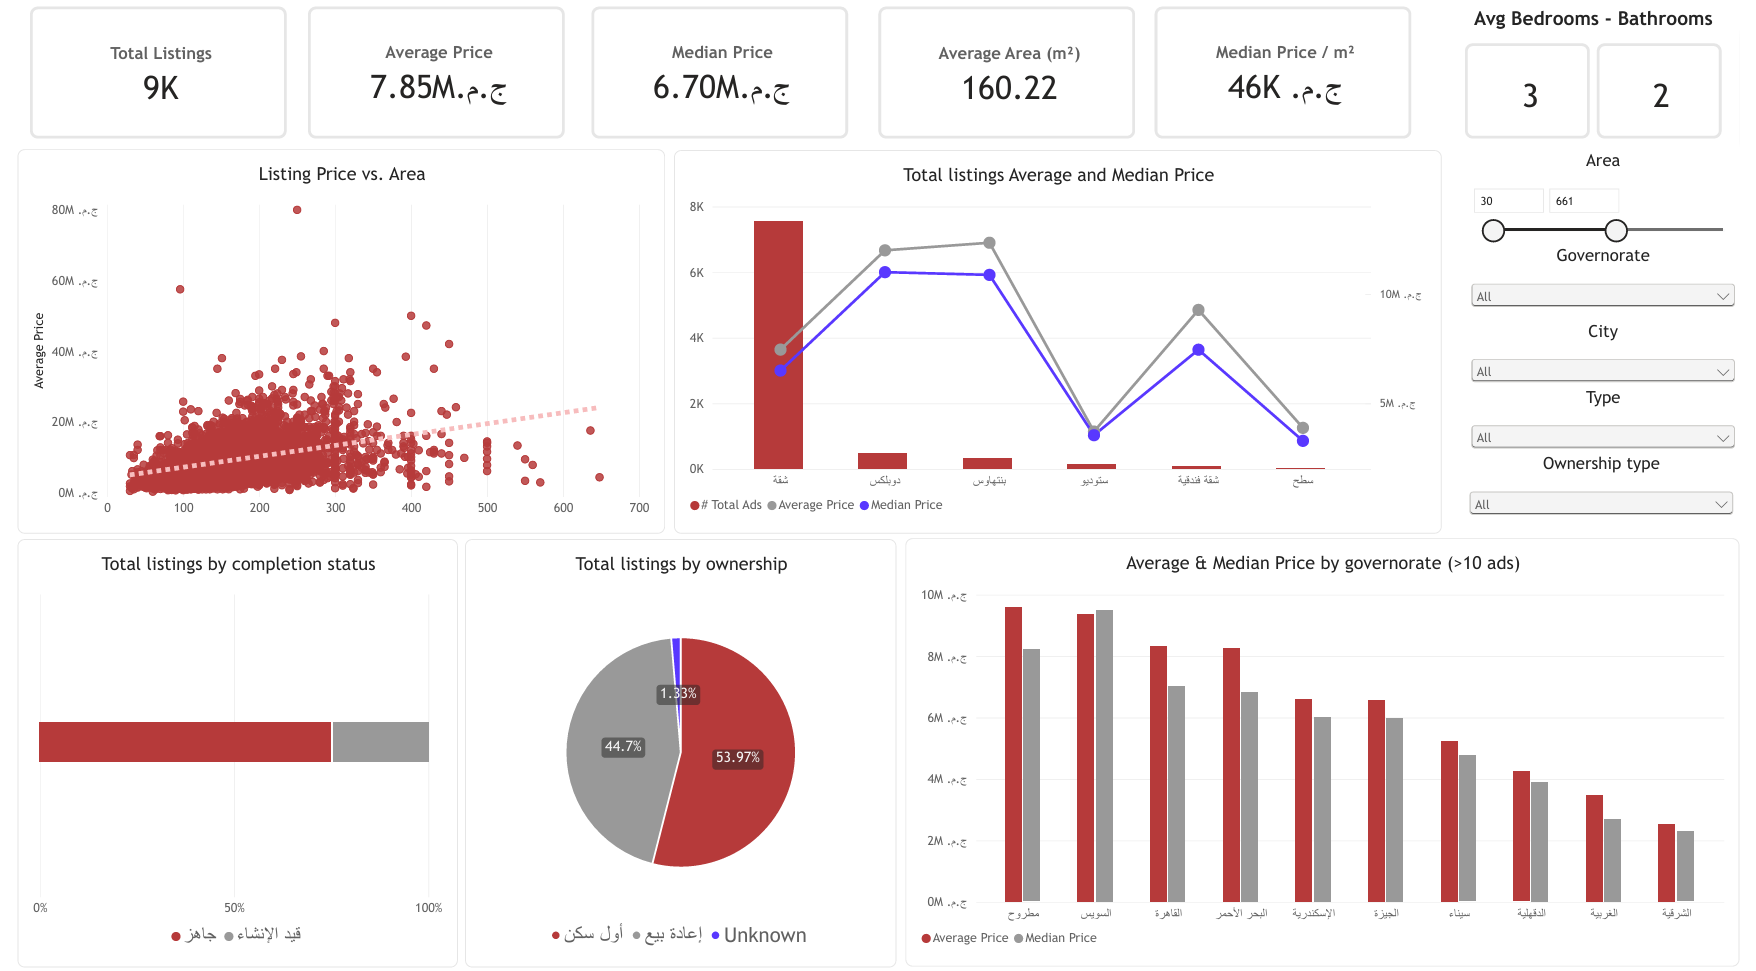

The dashboard page shown, as its layout file describes it:
{"tool":"powerbi","page":{"name":"Overview","canvas":[1920,1080],"ordinal":0},"visuals":[{"type":"cardVisual","fields":{"Data":["_Calculations.# Total Ads"]},"box":[14,8,286,147],"z":0},{"type":"cardVisual","fields":{"Data":["_Calculations.Average Price"]},"box":[324,8,286,147],"z":1000},{"type":"cardVisual","fields":{"Data":["_Calculations.Median Price"]},"box":[640,8,286,147],"z":2000},{"type":"cardVisual","title":"Avg Bedrooms - Bathrooms","fields":{"Data":["_Calculations.Average No. of Bedrooms","_Calculations.Average No. of Bathrooms"]},"box":[1614,8,286,147],"z":3000},{"type":"cardVisual","fields":{"Data":["_Calculations.Median Price per meter"]},"box":[1268,8,286,147],"z":4000},{"type":"cardVisual","fields":{"Data":["_Calculations.Average Area"]},"box":[960,8,286,147],"z":5000},{"type":"clusteredColumnChart","title":"Average & Median Price by governorate (>10 ads)","fields":{"Category":["Dim_address.governorate"],"Y":["_Calculations.Average Price","_Calculations.Median Price"]},"box":[990,601.4,930,477.8],"z":6000},{"type":"hundredPercentStackedBarChart","title":"Total listings by completion status","fields":{"Series":["Dim_status.completion status"],"Y":["_Calculations.# Total Ads"]},"box":[0,602.2,491.1,477.8],"z":7000},{"type":"pieChart","title":"Total listings by ownership","fields":{"Category":["Dim_status.ownership"],"Y":["_Calculations.# Total Ads"]},"box":[499,602,481.1,477.8],"z":8000},{"type":"lineStackedColumnComboChart","title":"Total listings Average and Median Price","fields":{"Category":["Fact_ads.property_type"],"Y":["_Calculations.# Total Ads"],"Y2":["_Calculations.Average Price","_Calculations.Median Price"]},"box":[732,168,856,428],"z":9000},{"type":"slicer","title":"Governorate","fields":{"Values":["Dim_address.governorate"]},"box":[1616,274,304,84],"z":10000},{"type":"slicer","title":"Ownership type","fields":{"Values":["Dim_status.ownership"]},"box":[1614,506,304,78],"z":11000},{"type":"slicer","title":"City","fields":{"Values":["Dim_address.city_or_locality"]},"box":[1616,358,304,74],"z":12000},{"type":"slicer","title":"Area","fields":{"Values":["Fact_ads.area"]},"box":[1616,168,304,106],"z":13000},{"type":"slicer","title":"Type","fields":{"Values":["Fact_ads.property_type"]},"box":[1616,432,304,74],"z":14000},{"type":"scatterChart","title":"Listing Price vs. Area","fields":{"Category":["Fact_ads.ad_id"],"X":["Avg(Fact_ads.area)"],"Y":["_Calculations.Average Price"]},"box":[0,166.7,722.2,428.9],"z":15000}]}

Visuals, with their boxes in screenshot pixels (x1, y1, x2, y2), scaled from the page's 1920x1080 canvas onto the 1756x971 screenshot:
cardVisual - _Calculations.# Total Ads: select_region(13, 7, 274, 139)
cardVisual - _Calculations.Average Price: select_region(296, 7, 558, 139)
cardVisual - _Calculations.Median Price: select_region(585, 7, 847, 139)
"Avg Bedrooms - Bathrooms" cardVisual: select_region(1476, 7, 1738, 139)
cardVisual - _Calculations.Median Price per meter: select_region(1160, 7, 1421, 139)
cardVisual - _Calculations.Average Area: select_region(878, 7, 1140, 139)
"Average & Median Price by governorate (>10 ads)" clusteredColumnChart: select_region(905, 541, 1755, 970)
"Total listings by completion status" hundredPercentStackedBarChart: select_region(0, 541, 449, 970)
"Total listings by ownership" pieChart: select_region(456, 541, 896, 970)
"Total listings Average and Median Price" lineStackedColumnComboChart: select_region(669, 151, 1452, 536)
"Governorate" slicer: select_region(1478, 246, 1755, 322)
"Ownership type" slicer: select_region(1476, 455, 1754, 525)
"City" slicer: select_region(1478, 322, 1755, 388)
"Area" slicer: select_region(1478, 151, 1755, 246)
"Type" slicer: select_region(1478, 388, 1755, 455)
"Listing Price vs. Area" scatterChart: select_region(0, 150, 661, 535)
